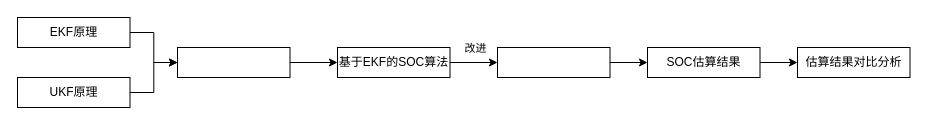
Some shapes in this 928 by 125 pixel diagram are drawn without their labels. Each missing label, with the centre of its shape:
"SOC算法" belongs at (x=553, y=62).
"系统状态方程" belongs at (x=233, y=62).
